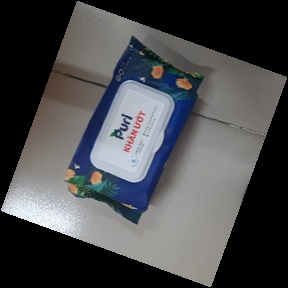Puri Xanh: (64, 36, 205, 226)
